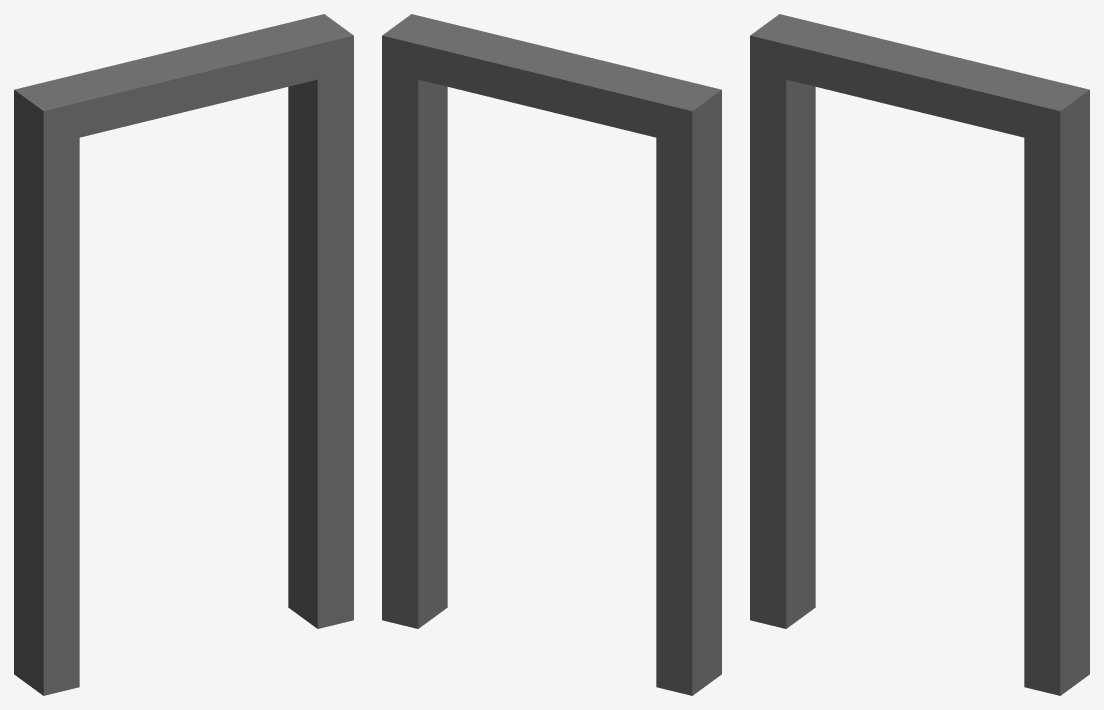
File: door_001.glb
3 views of the same model, side by side, from view 1: azimuth 30°, elevation 25°; view 2: azimuth 150°, elevation 25°; view 3: azimuth 330°, elevation 25° (orthographic).
Parts seen in each view (by area): view 1: door_001; view 2: door_001; view 3: door_001.
Boxes of the visible parts, x1,y1,x2,y2 form: door_001: [14, 14, 353, 695]; door_001: [382, 14, 721, 695]; door_001: [750, 14, 1089, 695].
Size of the model in its own units: 1.34 by 2.41 by 0.2204.
1 material, 1 textured.
